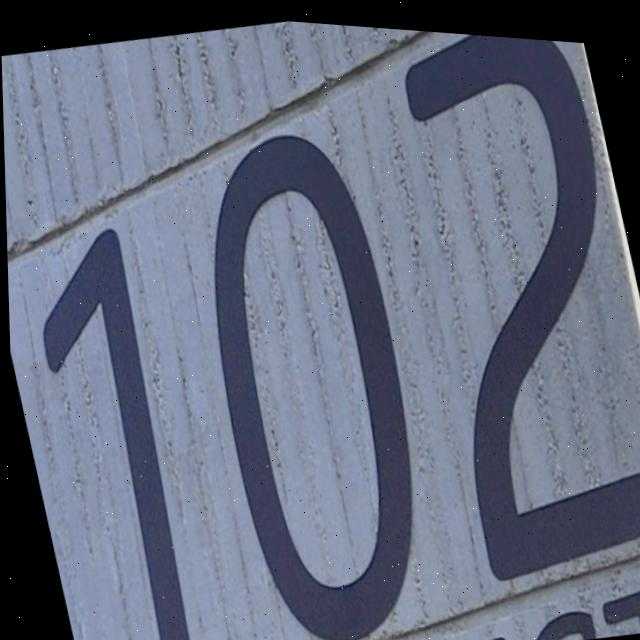character: (163, 103, 464, 640), (367, 27, 640, 601), (15, 216, 222, 640)
